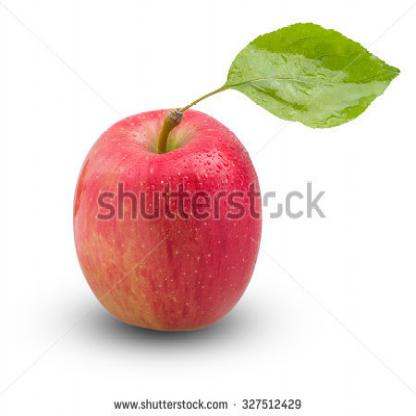apple leaf: (222, 14, 404, 132)
